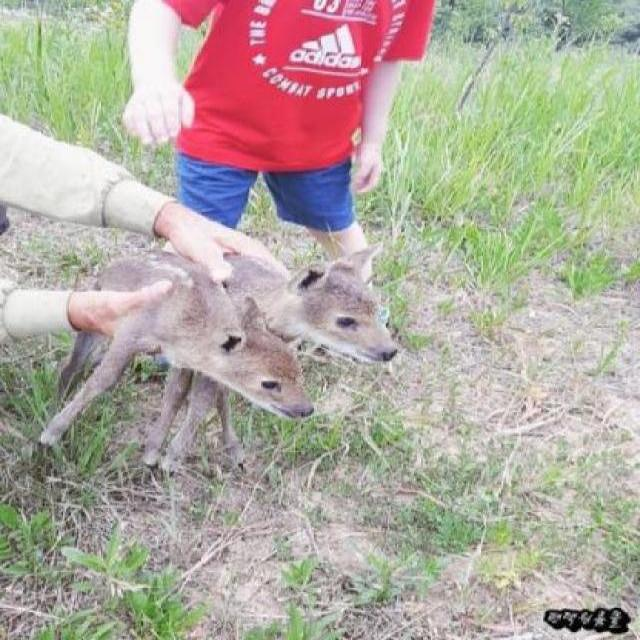deer: (34, 259, 308, 489), (248, 233, 409, 364)
